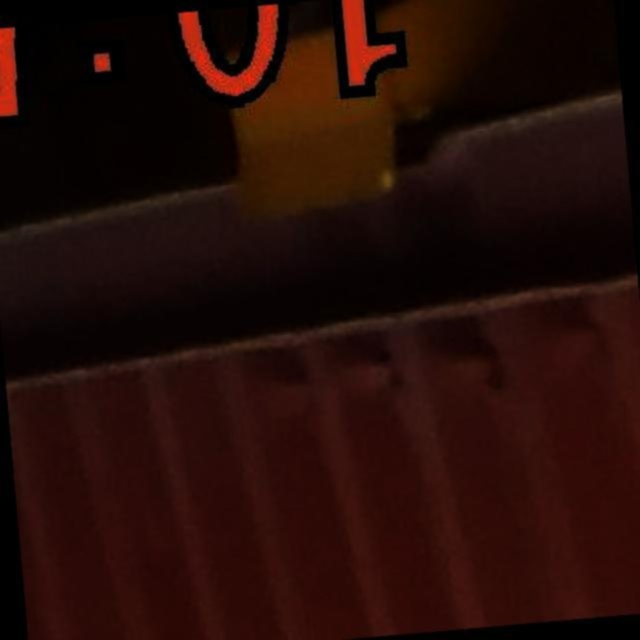Dent: (205, 305, 640, 443)
